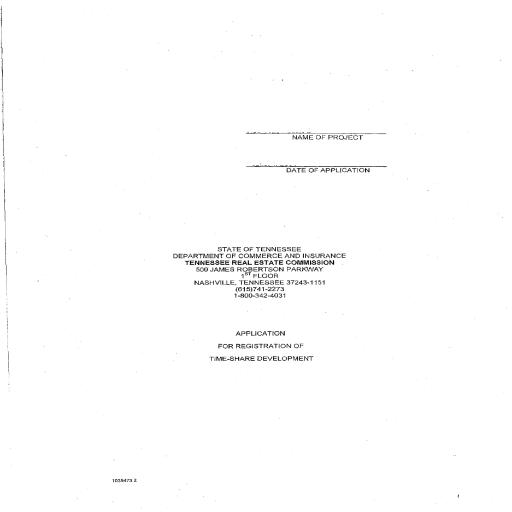date: (283, 167, 376, 176)
free_text: (292, 134, 370, 142)
